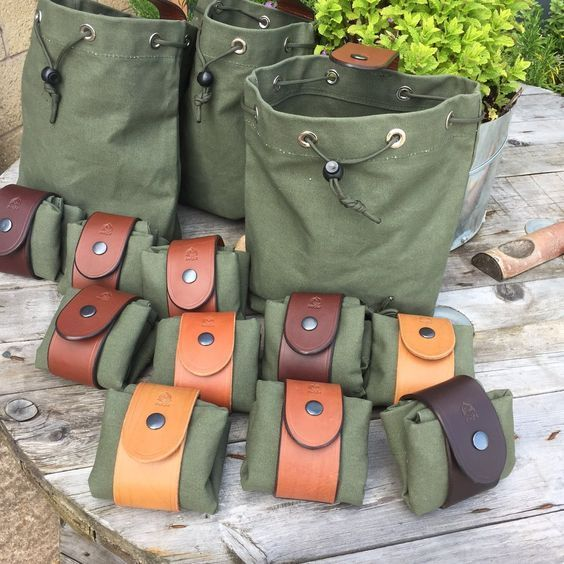cuero: (1, 182, 507, 511)
